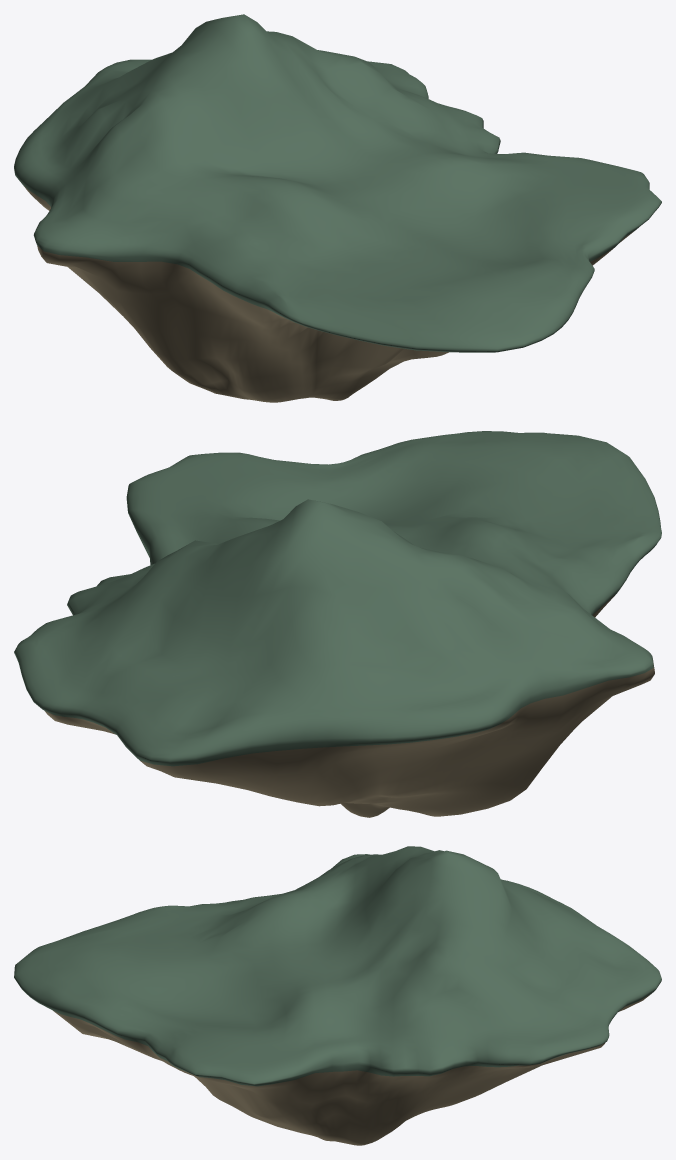
File: skyland_medium_1.fbx
The picture shows the model from 3 angles, top to bottom: view 1: azimuth 30°, elevation 25°; view 2: azimuth 150°, elevation 25°; view 3: azimuth 270°, elevation 25°; orthographic projection. The views are drawn at different scales.
Visible parts, largest first — view 1: island_1; view 2: island_1; view 3: island_1.
Boxes of the visible parts, left/top/right/bottom form: island_1: left=14, top=14, right=661, bottom=402; island_1: left=14, top=431, right=661, bottom=817; island_1: left=14, top=846, right=661, bottom=1145.
Bounding box in the file's own units: 3026 × 1800 × 3817.
